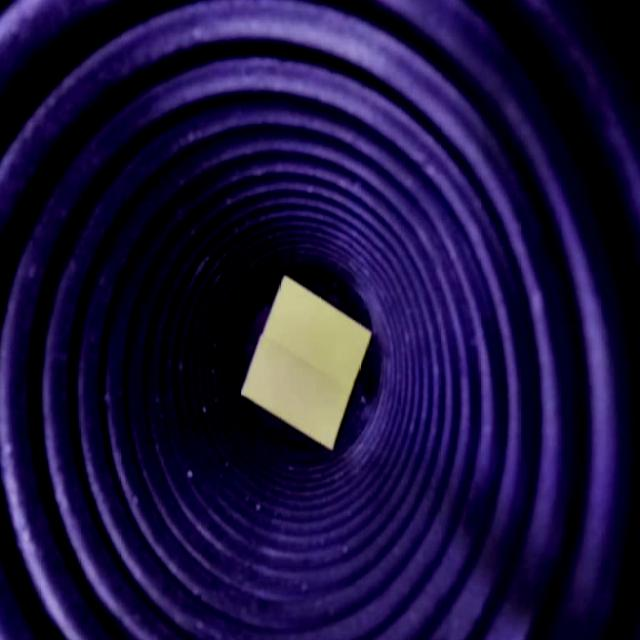obstacles: (237, 270, 374, 458)
